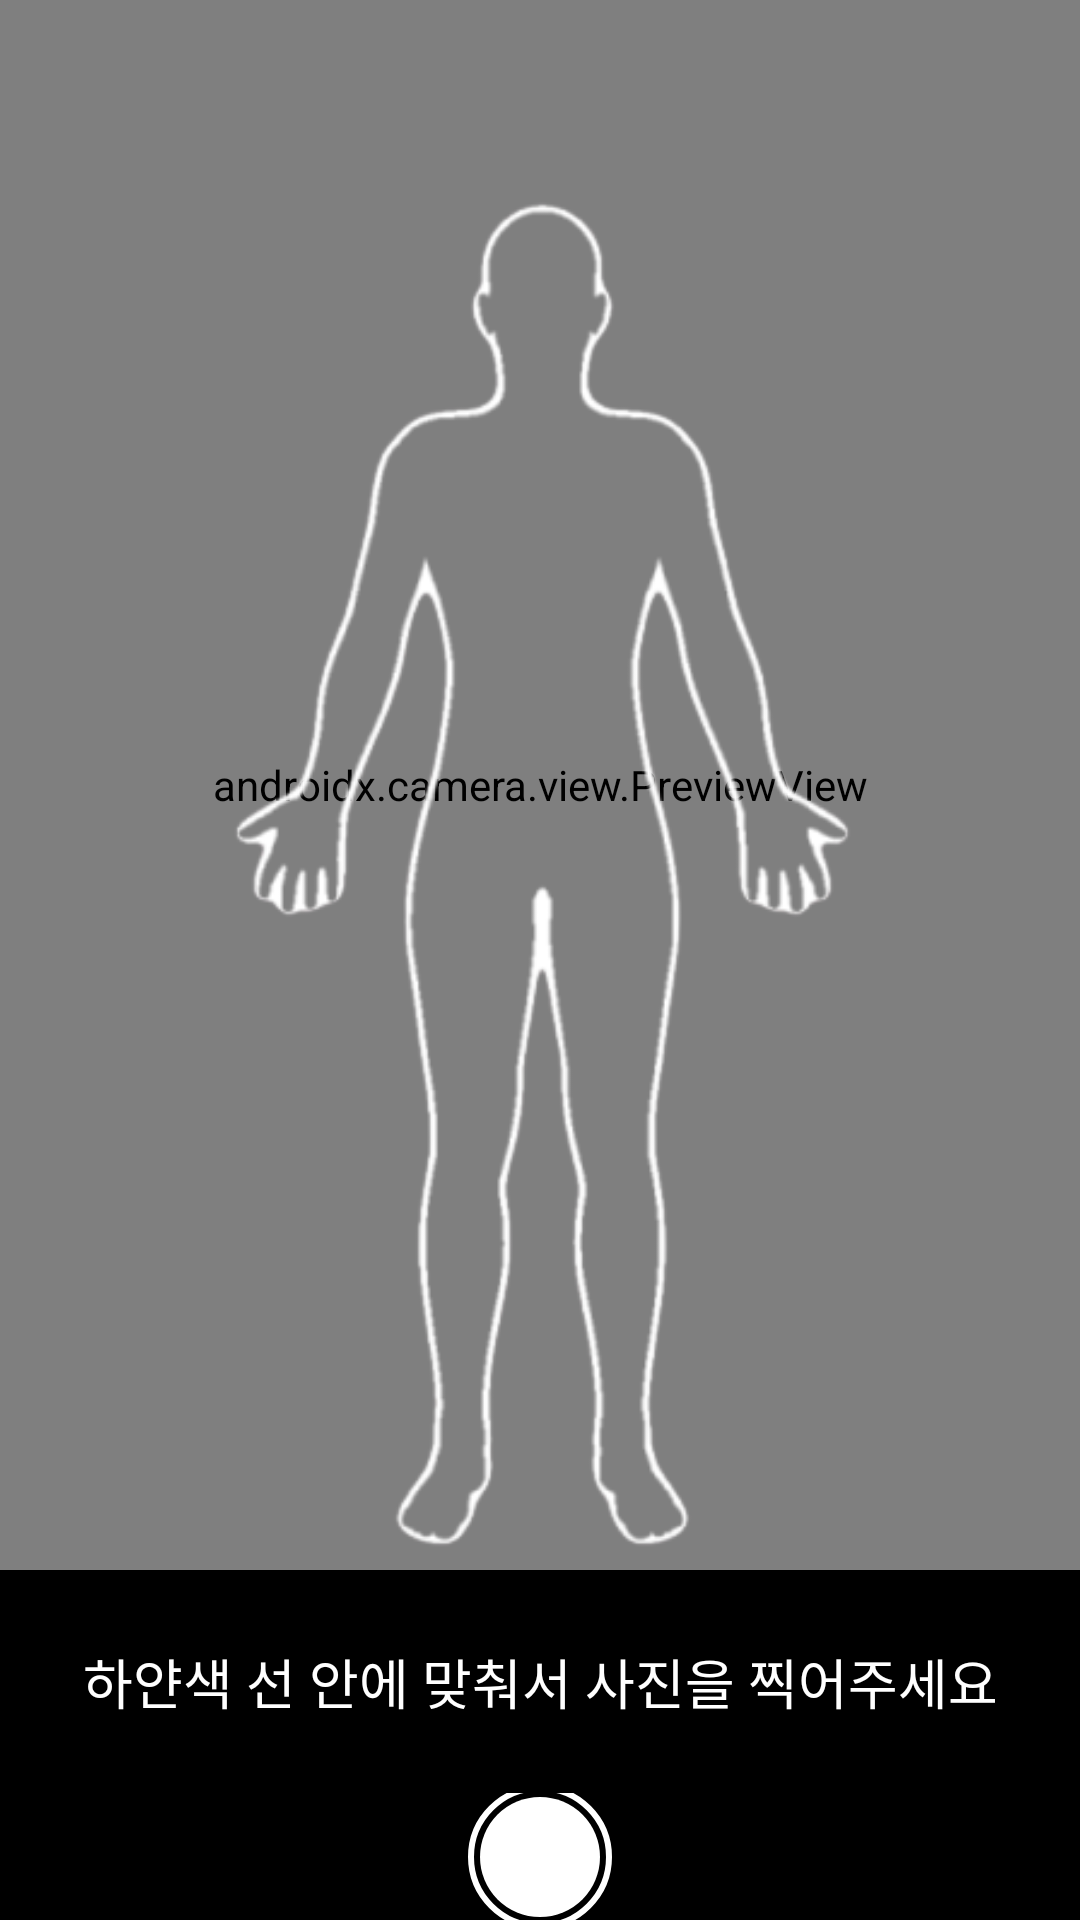

Screen size 1080x1920. Icon name, then its box in pixels as (x1, y1, x2, y2):
camera: (468, 1793, 612, 1920)
